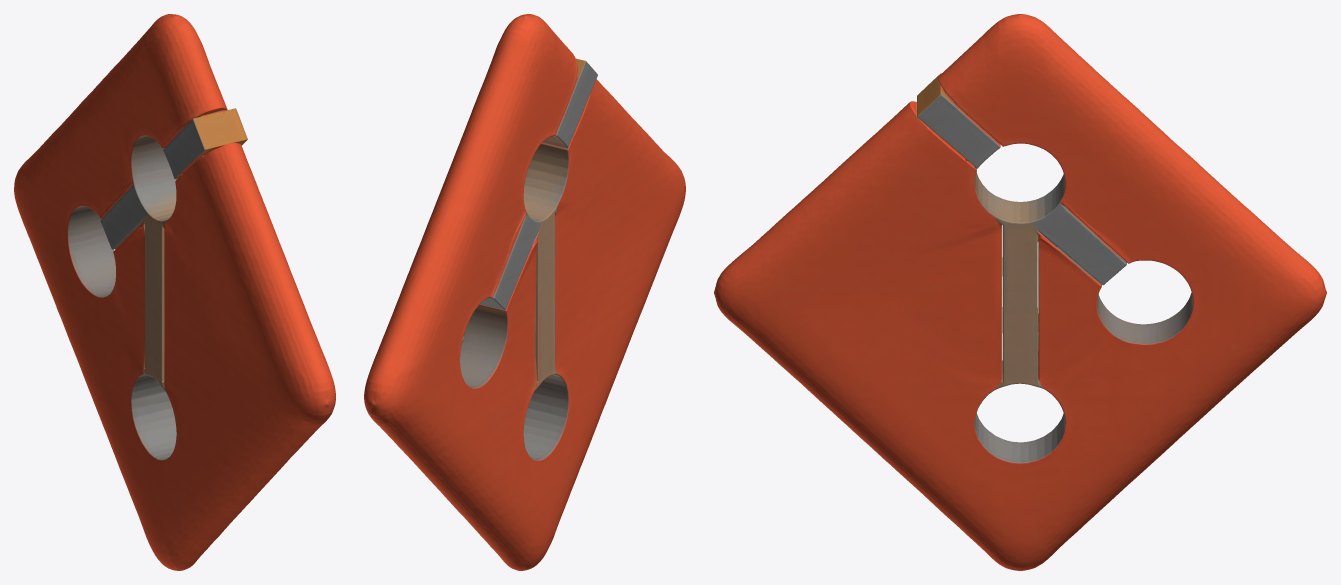
The model's file is git.glb.
3 views of the same model, side by side, from view 1: azimuth 30°, elevation 25°; view 2: azimuth 150°, elevation 25°; view 3: azimuth 270°, elevation 25° (orthographic).
Parts seen in each view (by area): view 1: tripo_node_5c7e4b39-7be2-46ae-8baf-ee861439e4ce; view 2: tripo_node_5c7e4b39-7be2-46ae-8baf-ee861439e4ce; view 3: tripo_node_5c7e4b39-7be2-46ae-8baf-ee861439e4ce.
Part boxes in pixels (x1=…): tripo_node_5c7e4b39-7be2-46ae-8baf-ee861439e4ce: x1=14, y1=14, x2=335, y2=570; tripo_node_5c7e4b39-7be2-46ae-8baf-ee861439e4ce: x1=364, y1=14, x2=685, y2=570; tripo_node_5c7e4b39-7be2-46ae-8baf-ee861439e4ce: x1=714, y1=14, x2=1326, y2=570.
Size of the model in its own units: 0.0865 by 0.9996 by 1.
Materials: 1 (1 with a texture image).
